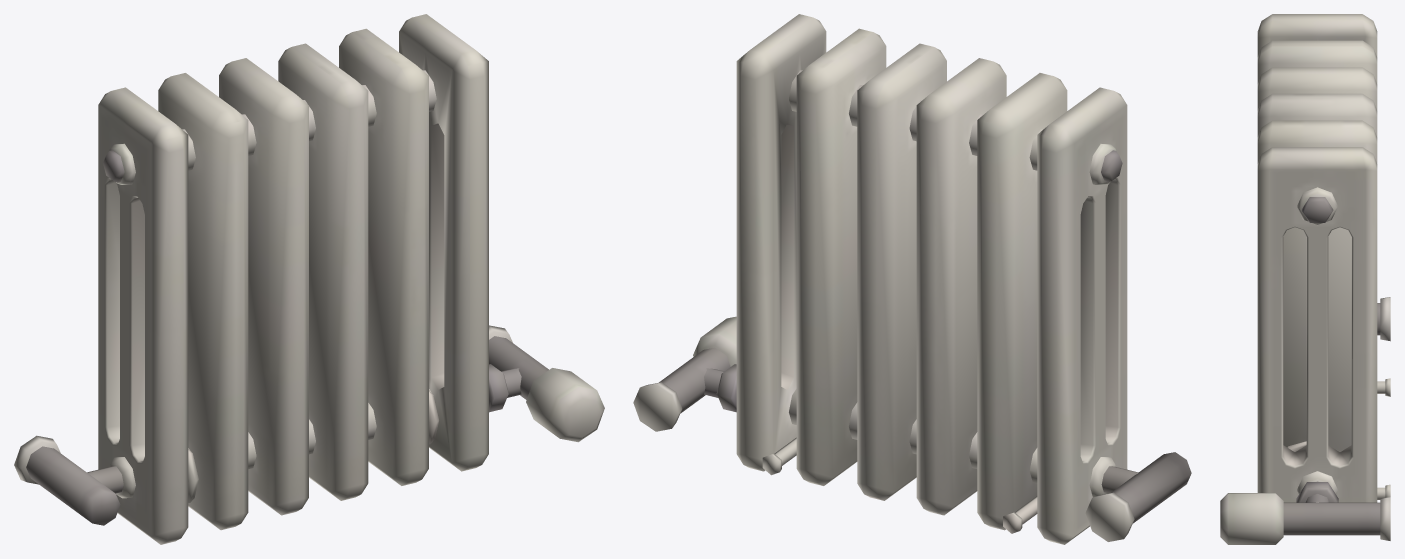
3 renders of one model, left to right at view 1: azimuth 30°, elevation 25°; view 2: azimuth 150°, elevation 25°; view 3: azimuth 270°, elevation 25°, orthographic. The views are drawn at different scales.
Bounding box in the file's own units: 8.64 × 6.88 × 2.81.
1 material, 1 textured.
